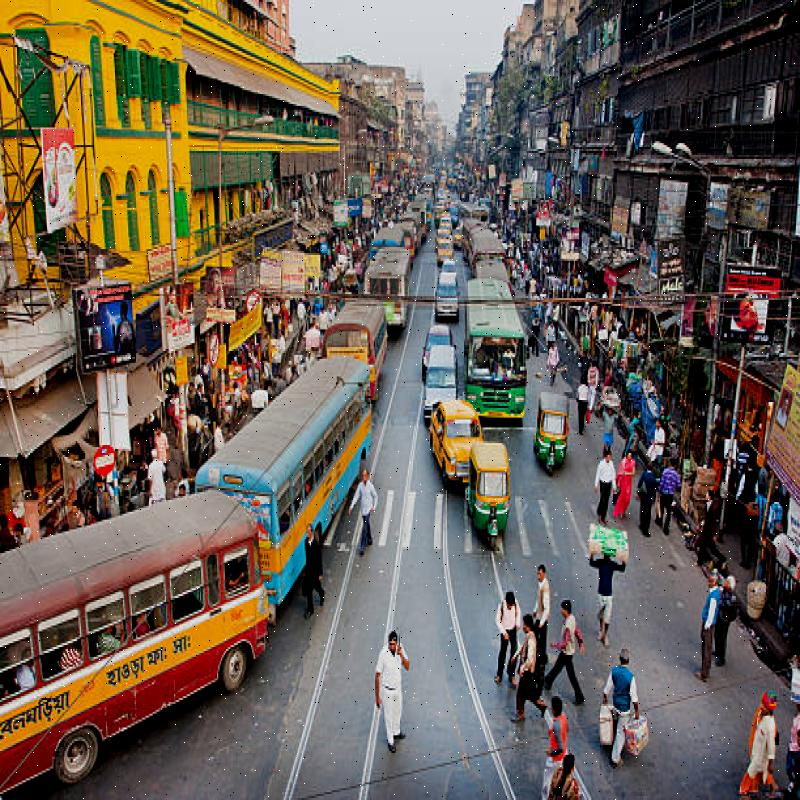auto: (463, 430, 533, 560), (543, 363, 572, 482)
bus: (8, 540, 266, 761), (211, 349, 396, 522), (465, 263, 540, 436)
car: (424, 402, 504, 489), (422, 324, 462, 399), (428, 264, 464, 330)
